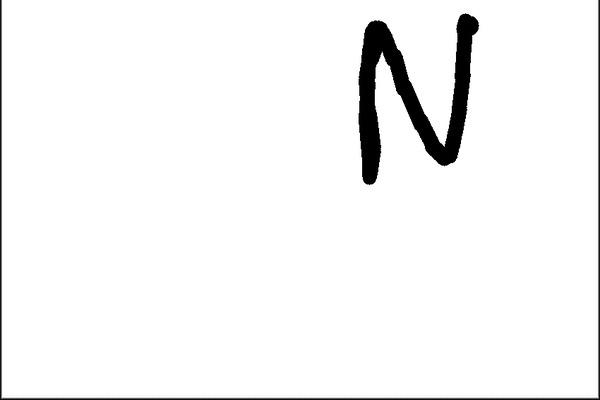N: (350, 9, 482, 191)
